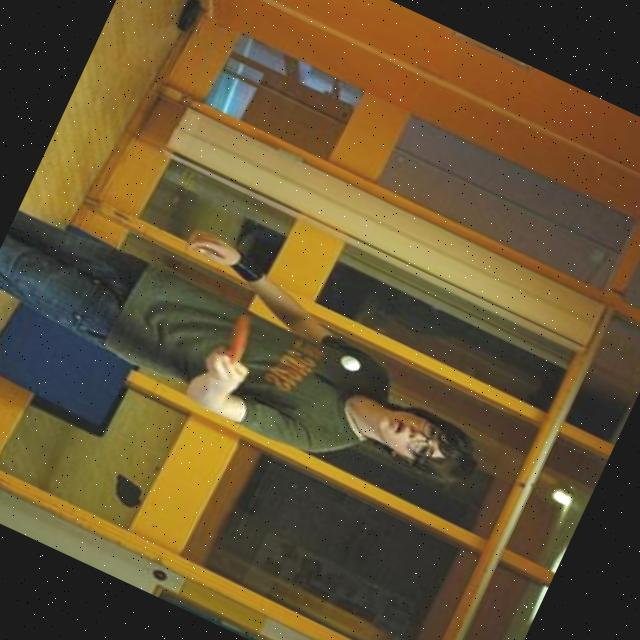ping-pong-ball: (338, 352, 366, 376)
